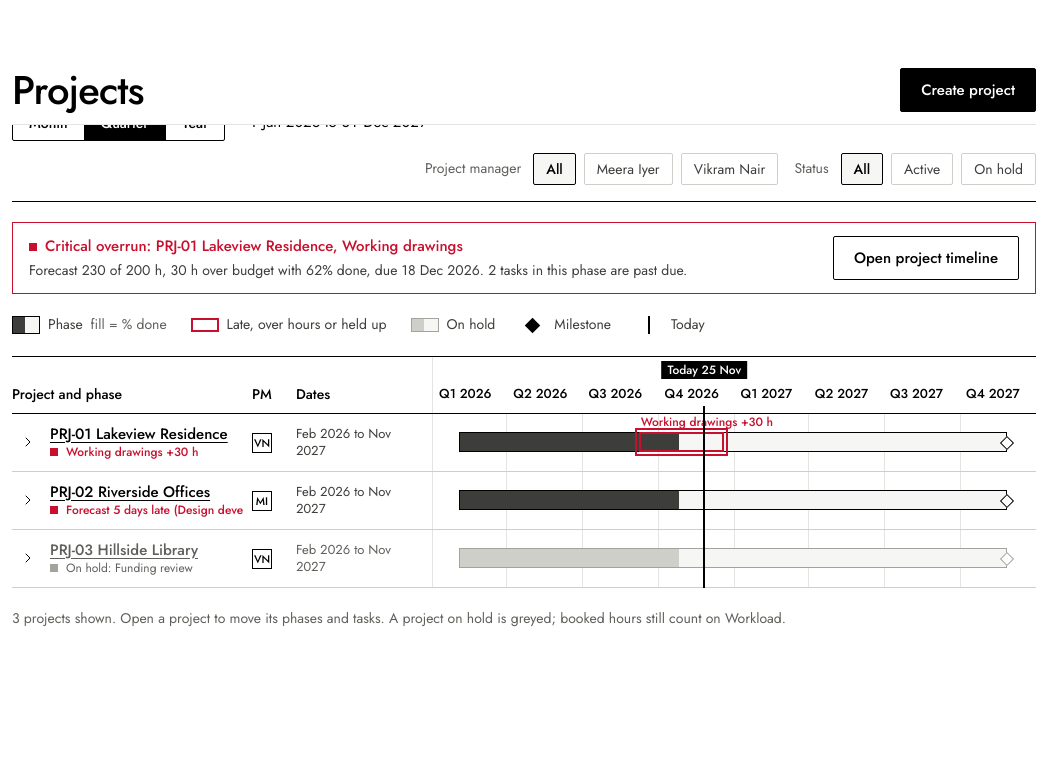
Test: studio timeline in live mode › filters by project manager and status through GET /schedule
Expected: the table named "All projects on a timeline" is shown, [12,356,1036,588]
Click the button "Meera Iyer" at coordinates (628, 169), box [584,153,673,185]
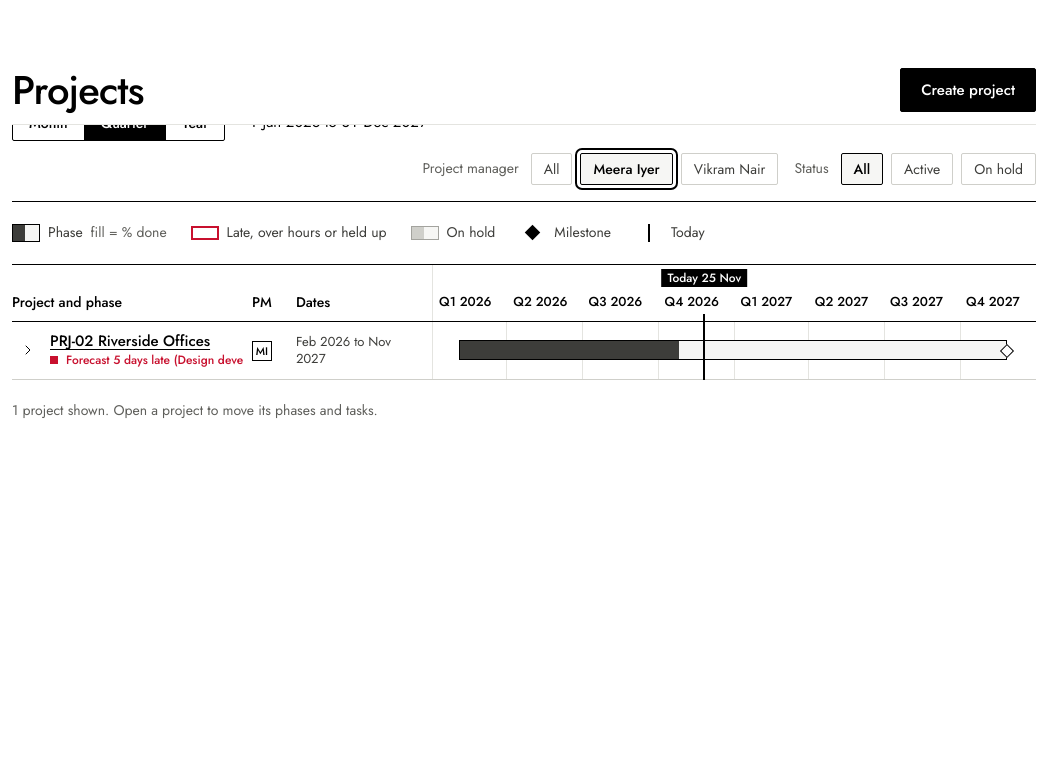
Expected: the link "PRJ-02 Riverside Offices" is shown, [50,330,210,352]
Expected: the link "PRJ-01 Lakeview Residence" is gone
Click the button "All" next to "Project manager" at coordinates (552, 169), box [531,153,572,185]
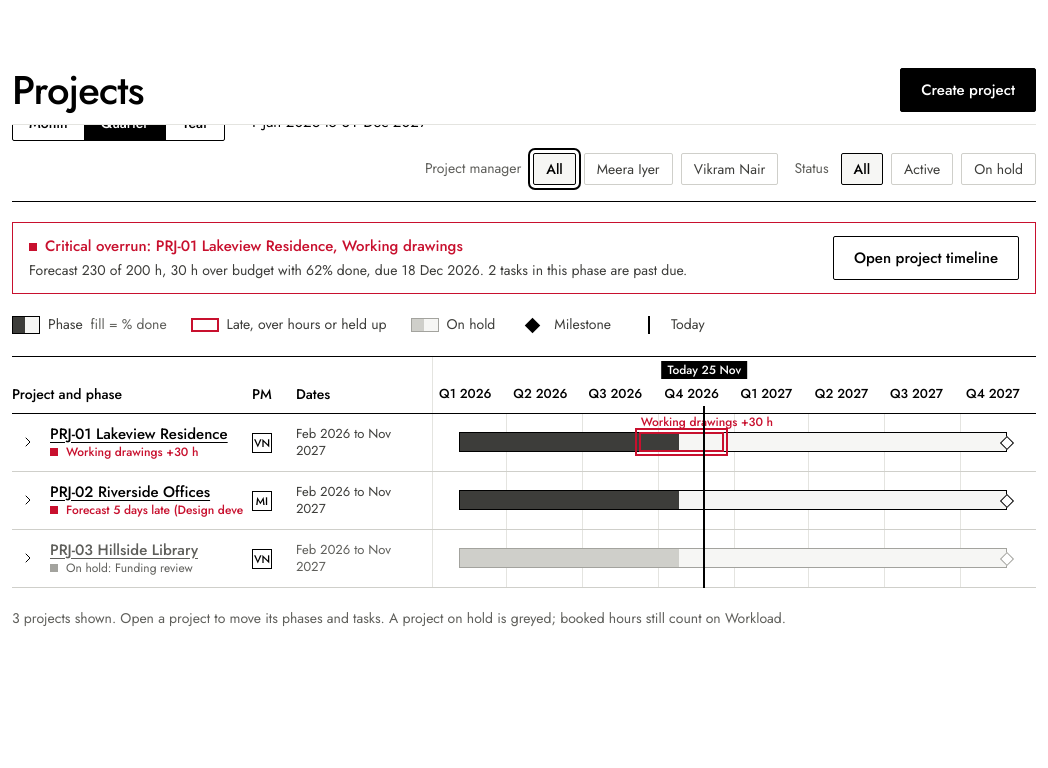
Click the button "On hold" at coordinates (999, 169), box [961,153,1036,185]
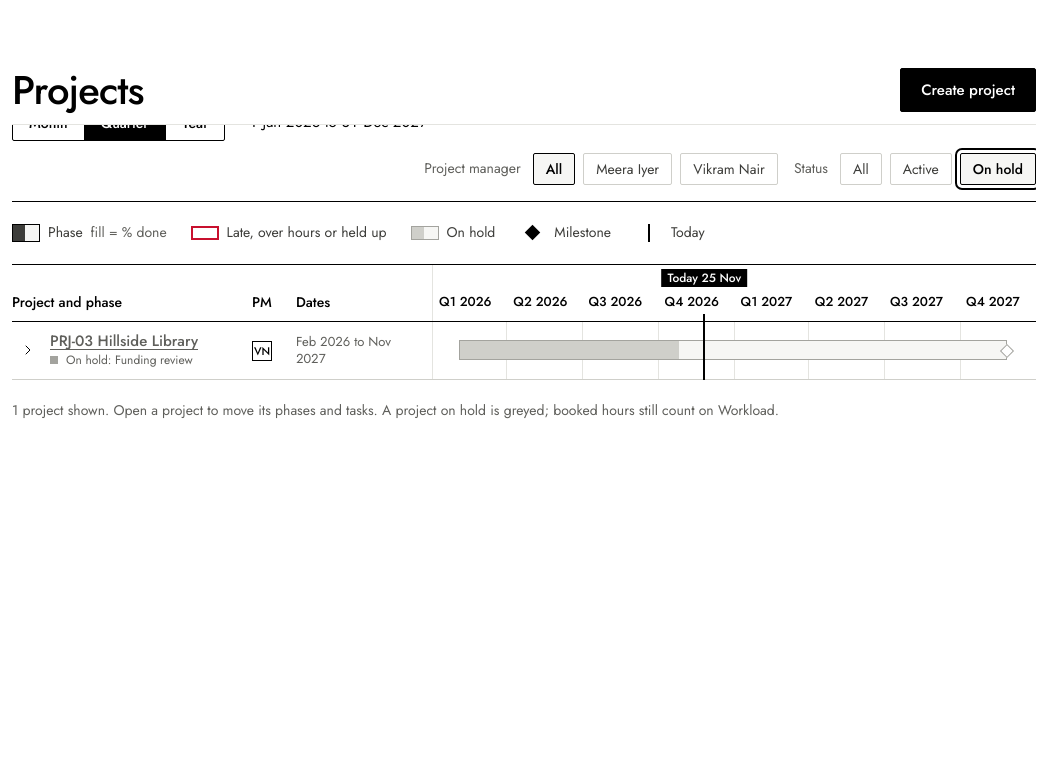
Expected: the link "PRJ-03 Hillside Library" is shown, [50,332,198,352]
Expected: the link "PRJ-02 Riverside Offices" is gone
